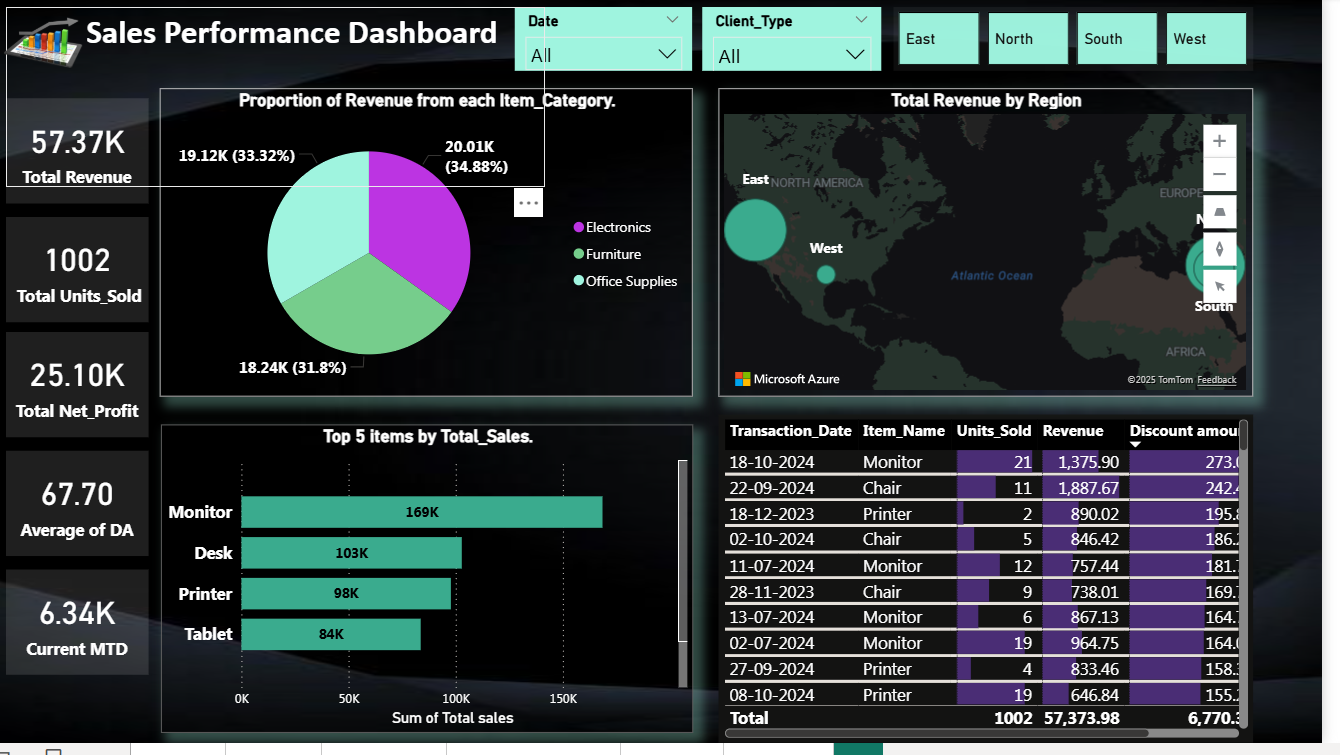

What the dashboard file says about the page in this screenshot:
{"tool":"powerbi","page":{"name":"Dashboard","canvas":[1280,720],"ordinal":2},"visuals":[{"type":"barChart","title":"Top 5 items by Total_Sales.","fields":{"Y":["Sum(transactions.Total sales)"],"Category":["transactions.Item_Name"]},"box":[159.3,412.6,513.9,298],"z":0},{"type":"pieChart","title":"Proportion of Revenue from each Item_Category.","fields":{"Y":["Sum(transactions.Revenue)"],"Series":["transactions.Item_Category"]},"box":[157.8,87.8,514.6,297.8],"z":1000},{"type":"tableEx","fields":{"Values":["transactions.Transaction_Date","transactions.Item_Name","Sum(transactions.Units_Sold)","Sum(transactions.Revenue)","Sum(transactions.Discount amount)","Sum(transactions.Net_Profit)"]},"box":[697.6,402.8,516.3,317],"z":2000},{"type":"azureMap","fields":{"Category":["clients.Region"],"Size":["DAX.Total Revenue"]},"box":[697.1,87.8,516,297.8],"z":3000},{"type":"slicer","fields":{"Values":["transactions.Transaction_Date.Variation.Date Hierarchy.Year","transactions.Transaction_Date.Variation.Date Hierarchy.Quarter","transactions.Transaction_Date.Variation.Date Hierarchy.Month","transactions.Transaction_Date.Variation.Date Hierarchy.Day"]},"box":[500.9,9.6,171.5,61.7],"z":4000},{"type":"slicer","fields":{"Values":["clients.Client_Type"]},"box":[682,9.6,172.9,61.7],"z":5000},{"type":"advancedSlicerVisual","fields":{"Values":["clients.Region"]},"box":[865.9,9.6,347.2,61.7],"z":6000},{"type":"textbox","box":[9.6,9.6,520.1,174.3],"z":7000},{"type":"image","box":[0,0,91.9,87.8],"z":8000},{"type":"card","fields":{"Values":["DAX.Total Revenue"]},"box":[9.6,97.4,137.2,101.5],"z":9000},{"type":"card","fields":{"Values":["Sum(transactions.Units_Sold)"]},"box":[9.6,212.7,137.2,101.5],"z":10000},{"type":"card","fields":{"Values":["Avg(transactions.Discount amount)"]},"box":[9.6,437.7,137.2,101.5],"z":11000},{"type":"card","fields":{"Values":["Sum(transactions.Net_Profit)"]},"box":[9.6,323.8,137.2,101.5],"z":12000},{"type":"card","fields":{"Values":["DAX.Current MTD"]},"box":[9.6,553,137.2,101.5],"z":13000}]}

Visuals, with their boxes in screenshot pixels (x1, y1, x2, y2), scaled from the page's 1280x720 canvas onto the 1340x755 screenshot:
"Top 5 items by Total_Sales." barChart: <region>167, 433, 705, 745</region>
"Proportion of Revenue from each Item_Category." pieChart: <region>165, 92, 704, 404</region>
tableEx - transactions.Transaction_Date x transactions.Item_Name: <region>730, 422, 1271, 754</region>
azureMap - clients.Region x DAX.Total Revenue: <region>730, 92, 1270, 404</region>
slicer - transactions.Transaction_Date.Variation.Date Hierarchy.Year x transactions.Transaction_Date.Variation.Date Hierarchy.Quarter: <region>524, 10, 704, 75</region>
slicer - clients.Client_Type: <region>714, 10, 895, 75</region>
advancedSlicerVisual - clients.Region: <region>906, 10, 1270, 75</region>
textbox: <region>10, 10, 555, 193</region>
image: <region>0, 0, 96, 92</region>
card - DAX.Total Revenue: <region>10, 102, 154, 209</region>
card - Sum(transactions.Units_Sold): <region>10, 223, 154, 329</region>
card - Avg(transactions.Discount amount): <region>10, 459, 154, 565</region>
card - Sum(transactions.Net_Profit): <region>10, 340, 154, 446</region>
card - DAX.Current MTD: <region>10, 580, 154, 686</region>
